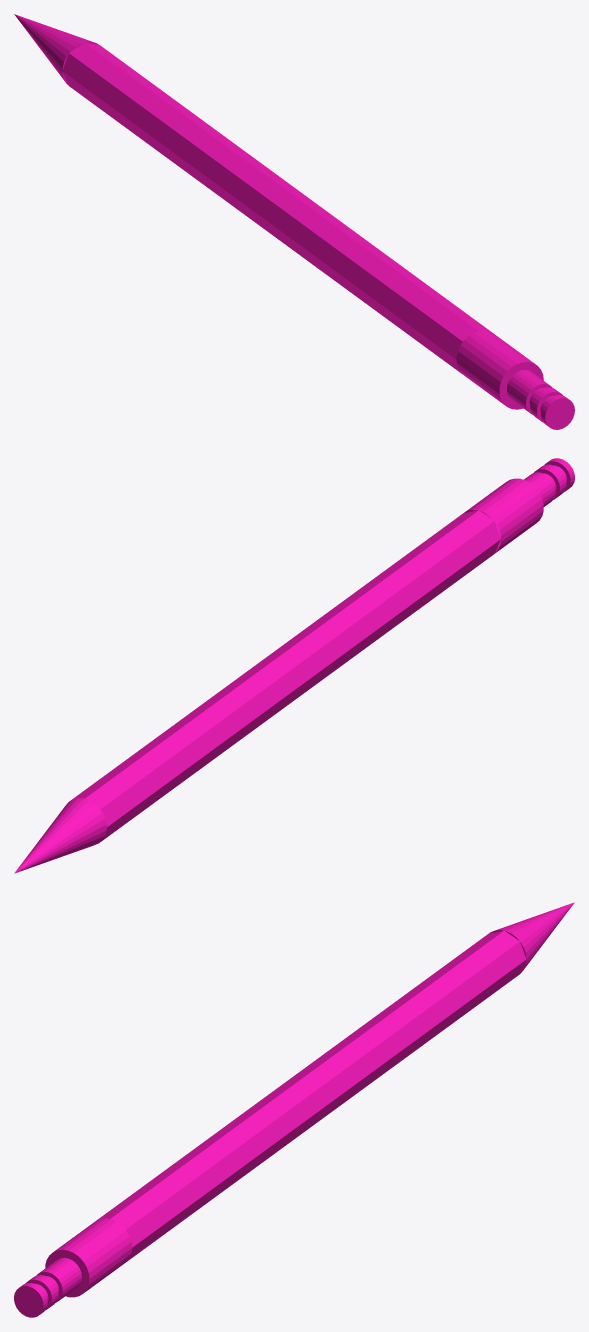
Rendered from pen1_5.dae.
3 views of the same model, one above another, from view 1: azimuth 30°, elevation 25°; view 2: azimuth 150°, elevation 25°; view 3: azimuth 330°, elevation 25° (orthographic).
Visible parts, largest first — view 1: M000300_019; view 2: M000300_019; view 3: M000300_019.
Part boxes in pixels (bbox=[...]): M000300_019: bbox=[14, 14, 574, 429]; M000300_019: bbox=[14, 458, 574, 873]; M000300_019: bbox=[14, 902, 574, 1317].
Bounding box in the file's own units: 0.0117 × 0.2481 × 0.0117.
